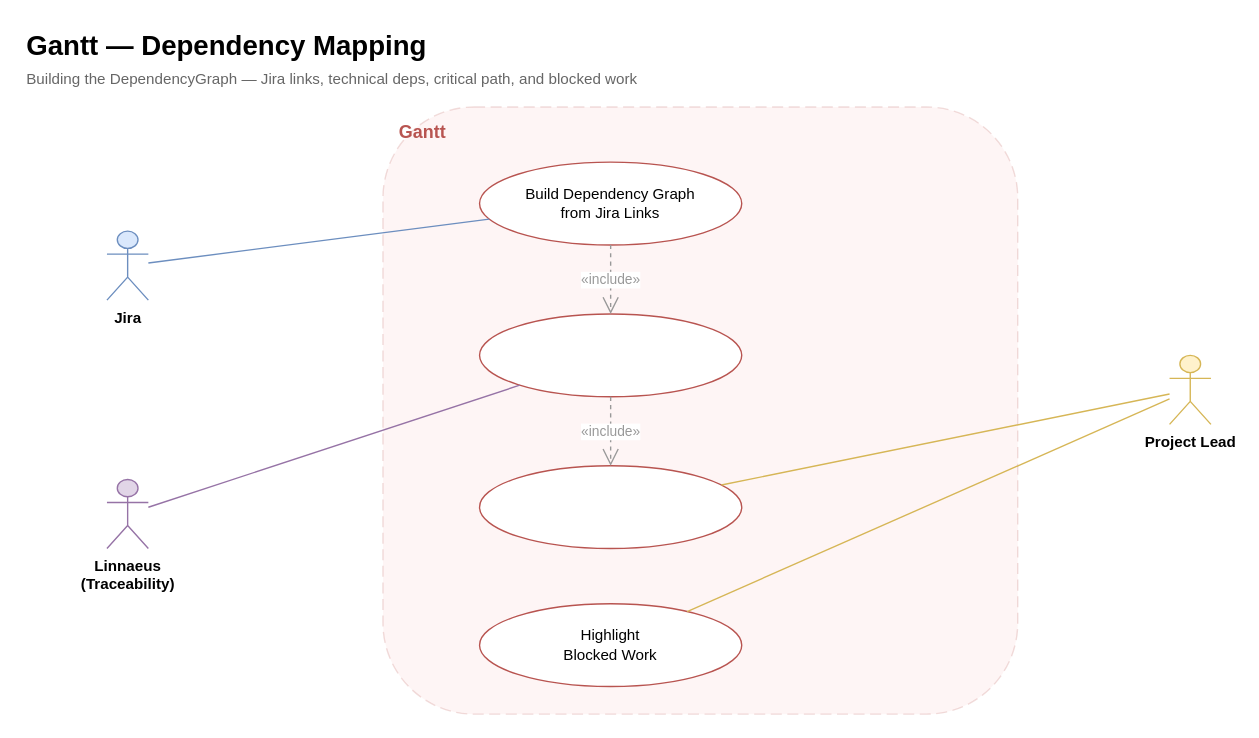
Some shapes in this 1259 by 738 pixel diagram are drawn without their labels. Here are the shapes that lost their labels. From the top down, the centre of each, then its label:
pixel 610 355: Incorporate Technical Dependencies
pixel 610 506: Identify Critical Path
